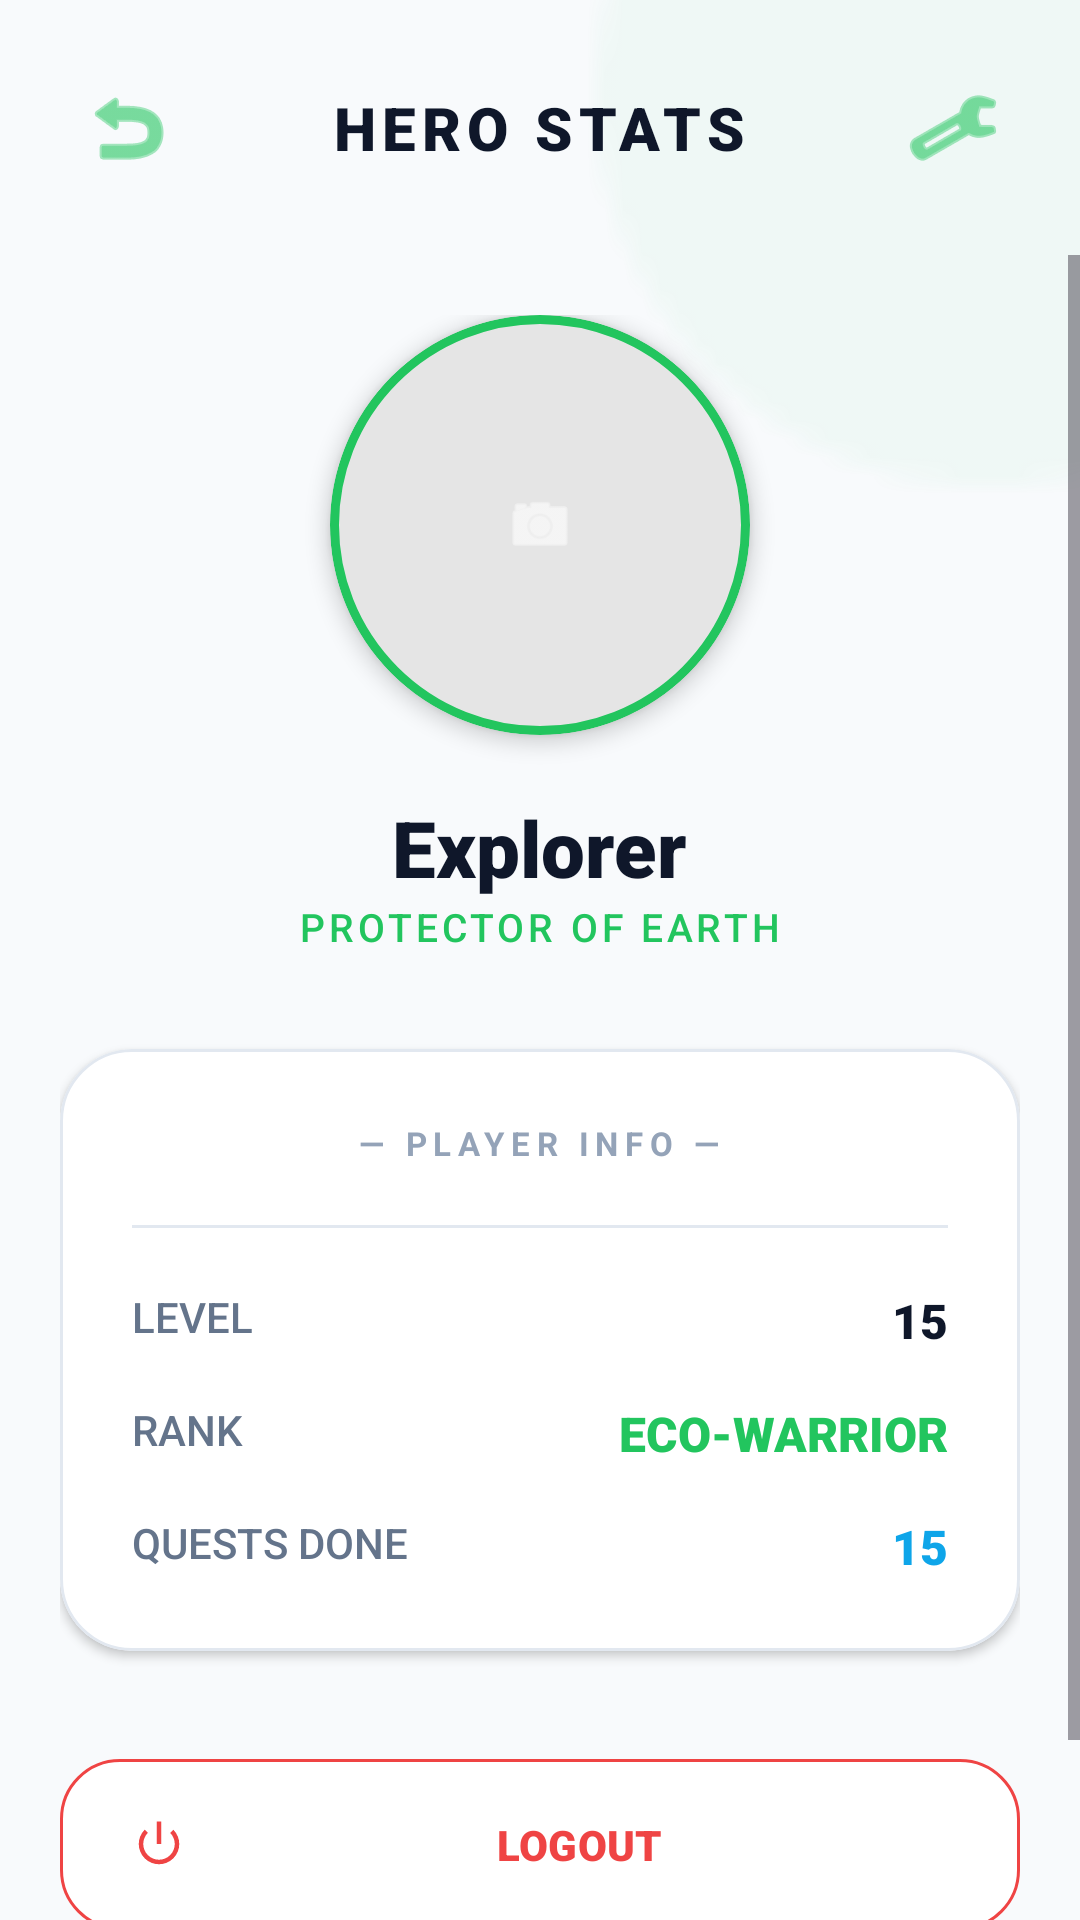

Named icons in this screenshot (1080 x 1920) and their centers, point (x, y):
preferences: point (953, 128)
revert: point (129, 128)
